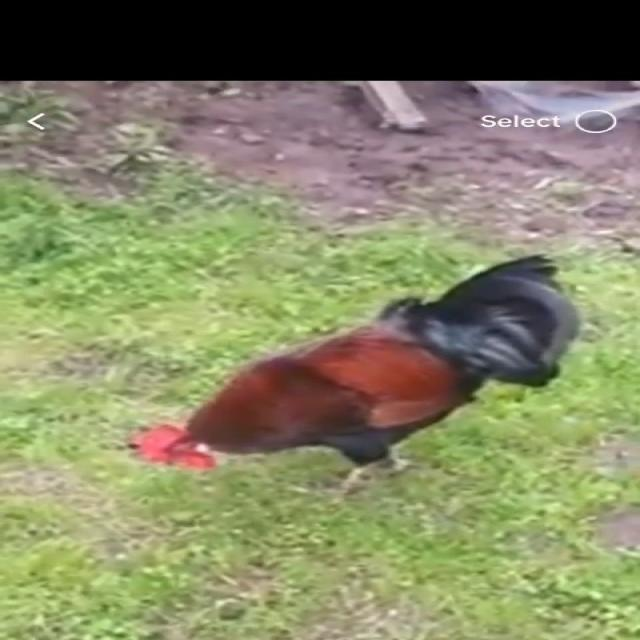feeding: (130, 247, 580, 498)
